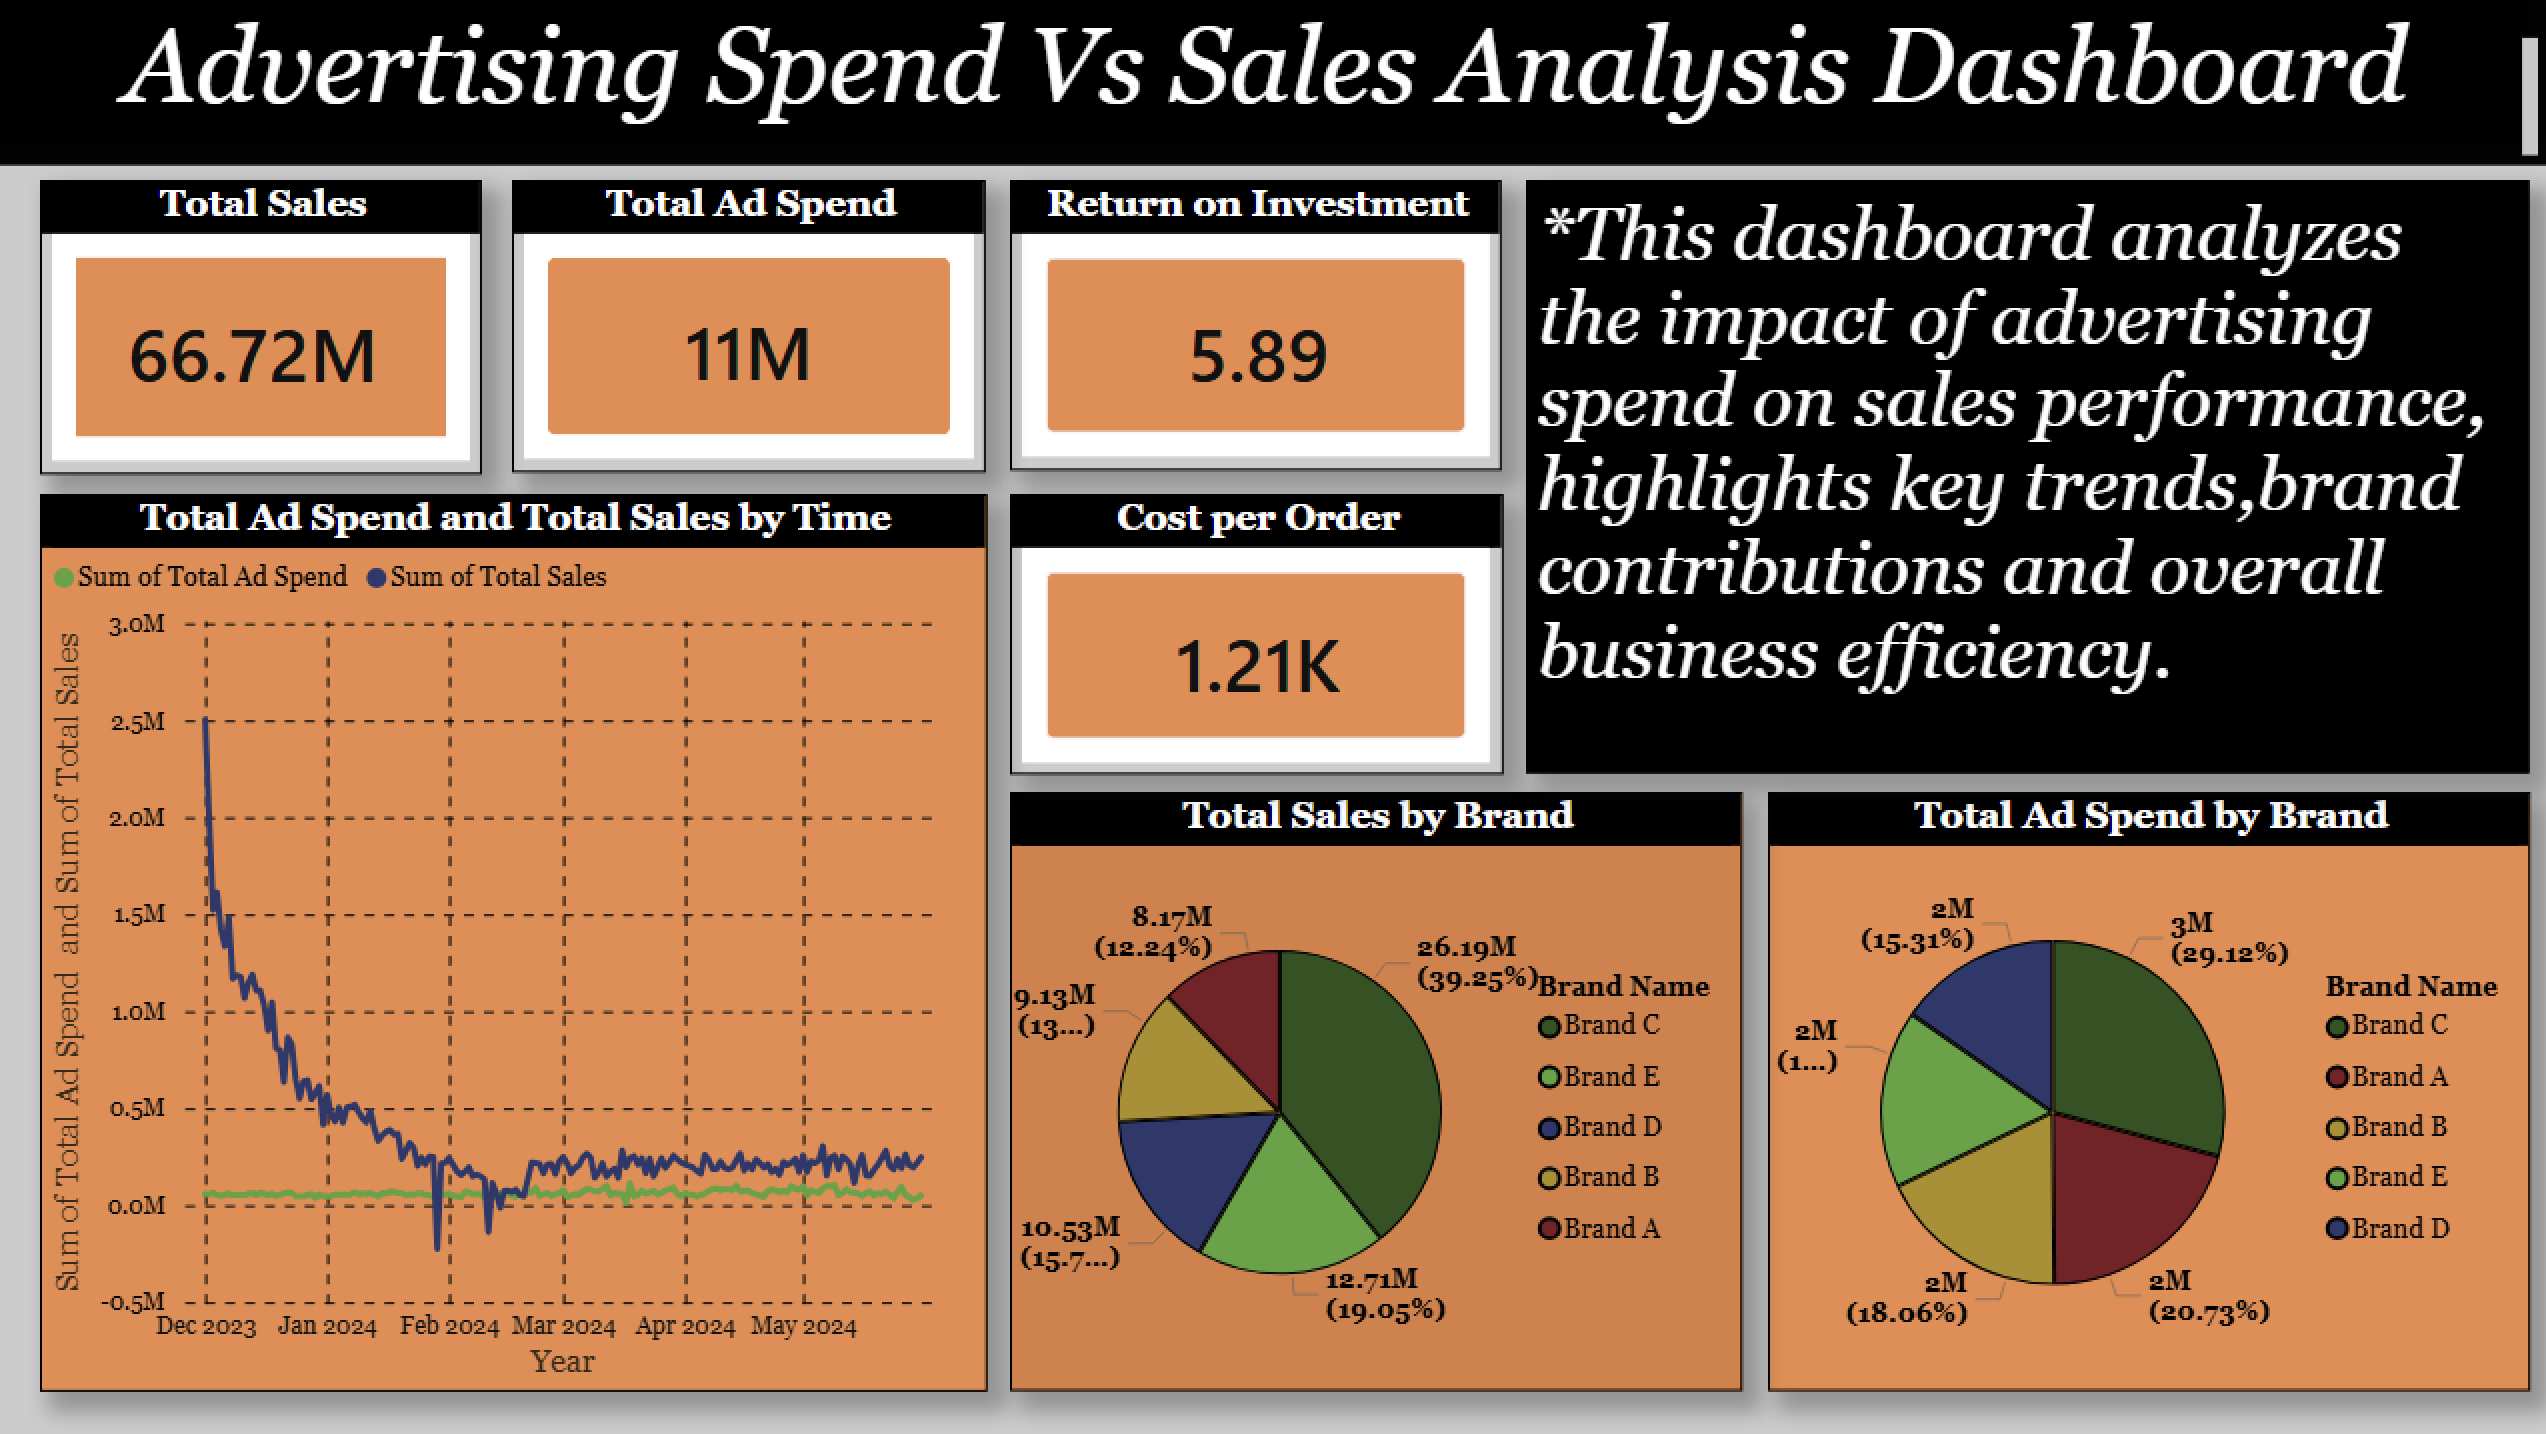

What the dashboard file says about the page in this screenshot:
{"tool":"powerbi","page":{"name":"Overview Dashboard","canvas":[1280,720],"ordinal":0},"visuals":[{"type":"cardVisual","title":"Return on Investment","fields":{"Data":["Brand_Sales_AdSpend_Data.ROI"]},"box":[507.4,90.4,247.2,145.7],"z":0},{"type":"cardVisual","title":"Total Ad Spend","fields":{"Data":["Brand_Sales_AdSpend_Data.Total Advertising Spend"]},"box":[257.2,90.4,238.1,146.7],"z":1000},{"type":"textbox","box":[0,0,1280,80.4],"z":2000},{"type":"lineChart","title":"Total Ad Spend  and Total Sales by Time","fields":{"Y":["Sum(Brand_Sales_AdSpend_Data.Total Ad Spend )","Sum(Brand_Sales_AdSpend_Data.Total Sales)"],"Category":["Brand_Sales_AdSpend_Data.Date.Variation.Date Hierarchy.Year","Brand_Sales_AdSpend_Data.Date.Variation.Date Hierarchy.Quarter","Brand_Sales_AdSpend_Data.Date.Variation.Date Hierarchy.Month","Brand_Sales_AdSpend_Data.Date.Variation.Date Hierarchy.Day"]},"box":[19.7,247.7,475.7,451.4],"z":3000},{"type":"pieChart","title":"Total Ad Spend by Brand ","fields":{"Category":["Brand_Sales_AdSpend_Data.Brand Name"],"Y":["Brand_Sales_AdSpend_Data.Total Advertising Spend"]},"box":[887.7,398.1,383.1,300.9],"z":4000},{"type":"pieChart","title":" Total Sales by Brand ","fields":{"Category":["Brand_Sales_AdSpend_Data.Brand Name"],"Y":["Sum(Brand_Sales_AdSpend_Data.Total Sales)"]},"box":[506.9,398.1,368,300.9],"z":5000},{"type":"cardVisual","title":"Total Sales","fields":{"Data":["Brand_Sales_AdSpend_Data.Sum of Sales"]},"box":[20.1,90.4,222,147.7],"z":6000},{"type":"textbox","box":[766.6,90.4,504.4,298.4],"z":7000},{"type":"cardVisual","title":"Cost per Order","fields":{"Data":["Brand_Sales_AdSpend_Data.Cost per Order"]},"box":[506.9,247.7,247.7,141.2],"z":8000}]}

Visuals, with their boxes in screenshot pixels (x1, y1, x2, y2), scaled from the page's 1280x720 canvas onto the 2546x1434 screenshot:
"Return on Investment" cardVisual: box=[1009, 180, 1501, 470]
"Total Ad Spend" cardVisual: box=[512, 180, 985, 472]
textbox: box=[0, 0, 2545, 160]
"Total Ad Spend  and Total Sales by Time" lineChart: box=[39, 493, 985, 1392]
"Total Ad Spend by Brand " pieChart: box=[1766, 793, 2528, 1392]
" Total Sales by Brand " pieChart: box=[1008, 793, 1740, 1392]
"Total Sales" cardVisual: box=[40, 180, 482, 474]
textbox: box=[1525, 180, 2528, 774]
"Cost per Order" cardVisual: box=[1008, 493, 1501, 775]
